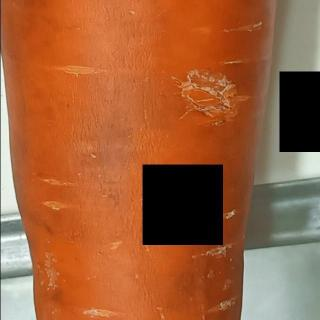carrot: (0, 0, 304, 320)
